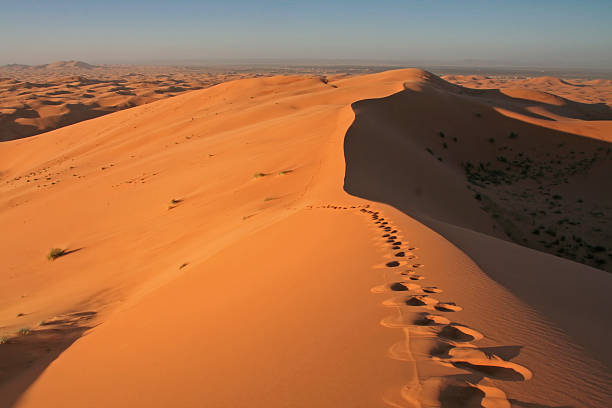human_foot_print: (374, 215, 530, 406)
